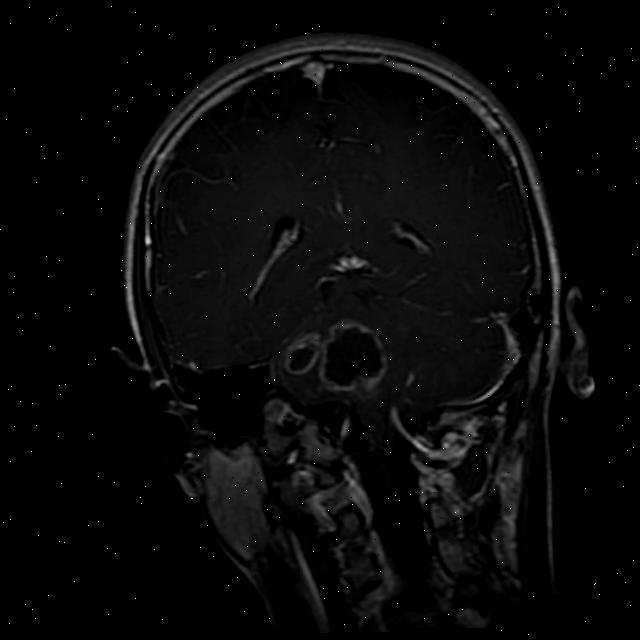Glioma: (314, 317, 391, 395), (280, 329, 324, 377)
